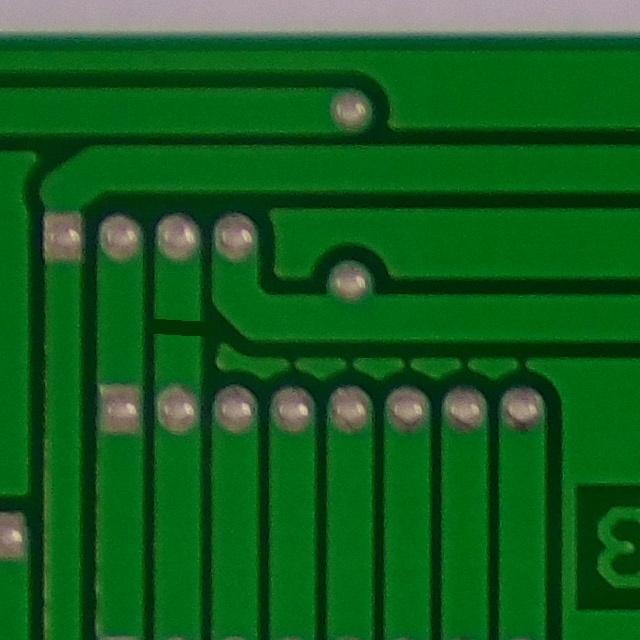open_circuit: (144, 301, 217, 355)
